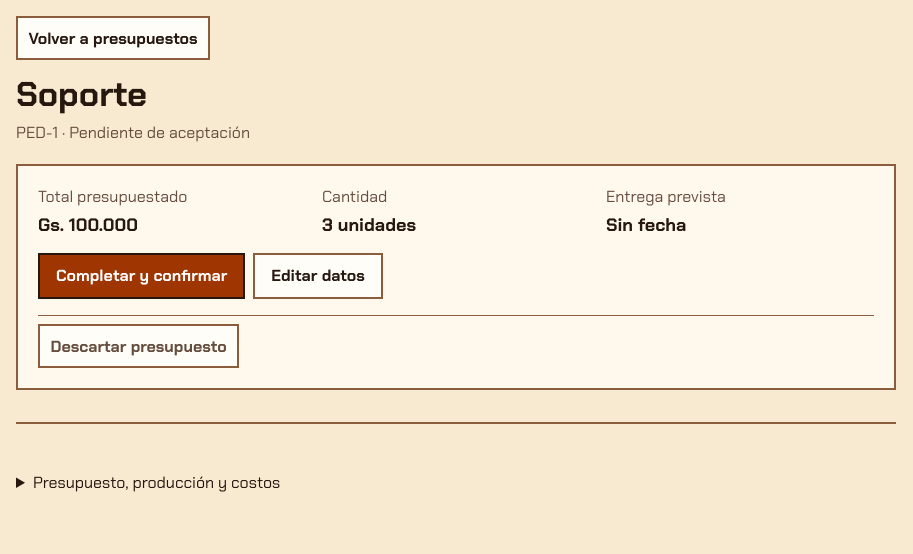
Scenario: shows missing confirmation data without suggesting a version conflict
Click the button "Completar y confirmar".
click(142, 276)  # box [38,253,245,299]
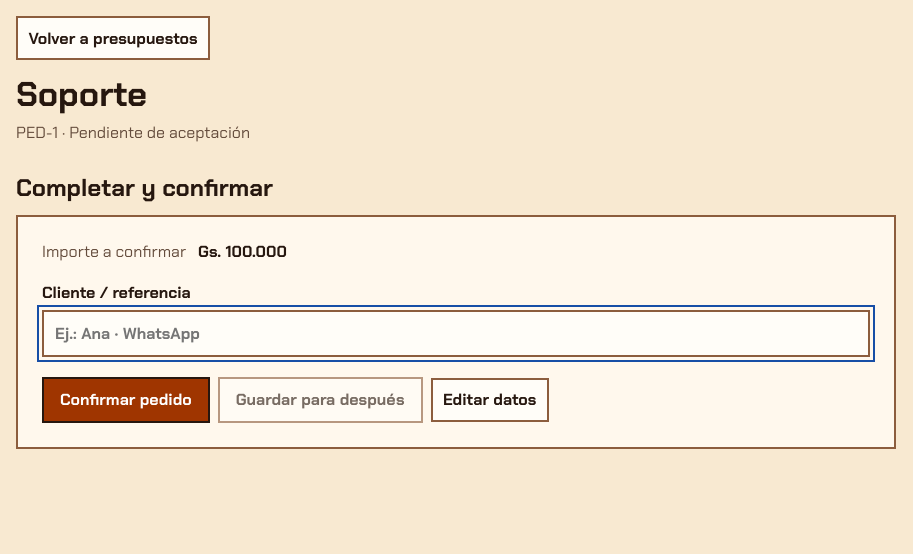
Click the button "Confirmar pedido".
click(126, 400)  # box [42,377,210,423]
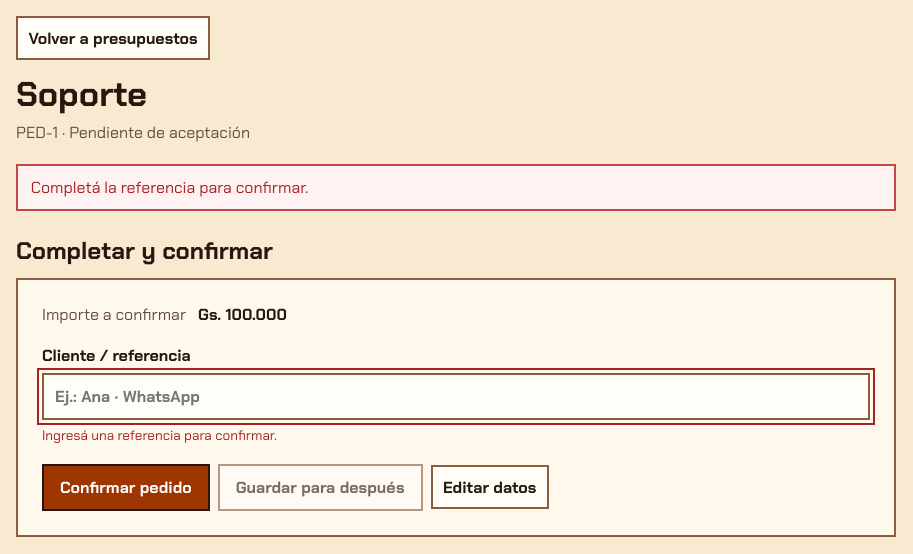
Result: the text "Ingresá una referencia para confirmar." is shown at [42,427,277,444]
